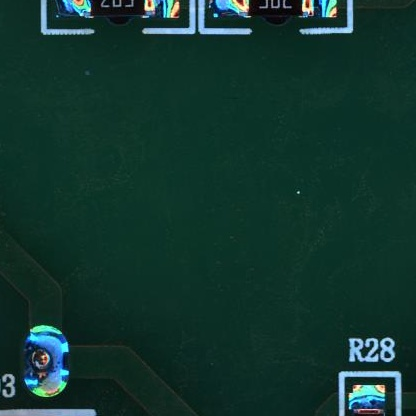spot: (23, 325, 71, 398)
